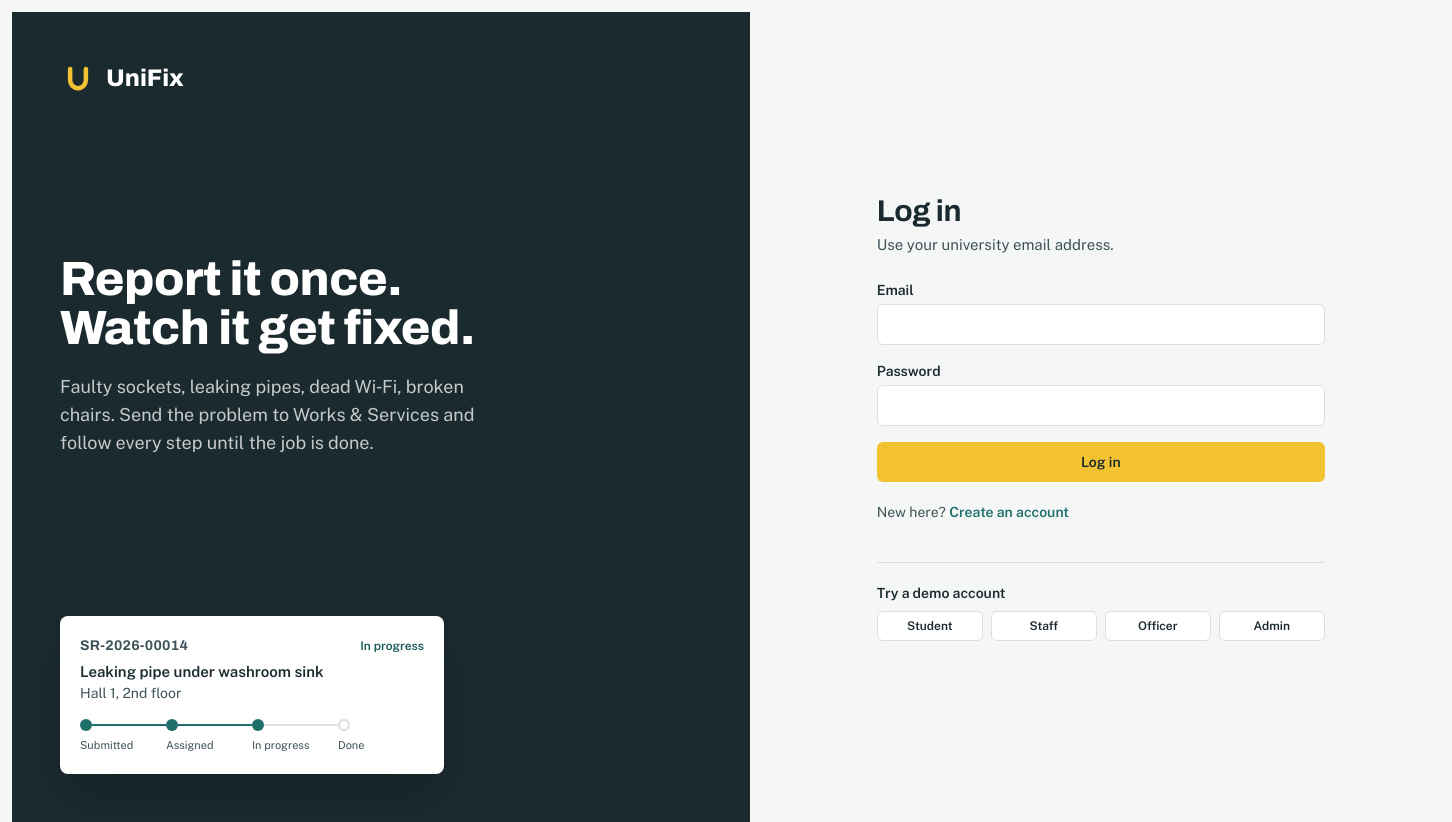
it: LoginPage › stores the token and opens the dashboard on success
Type "student@unifix.edu.ng" into the field labelled "Email" at coordinates (1101, 325), box x1=877 y1=304 x2=1325 y2=345
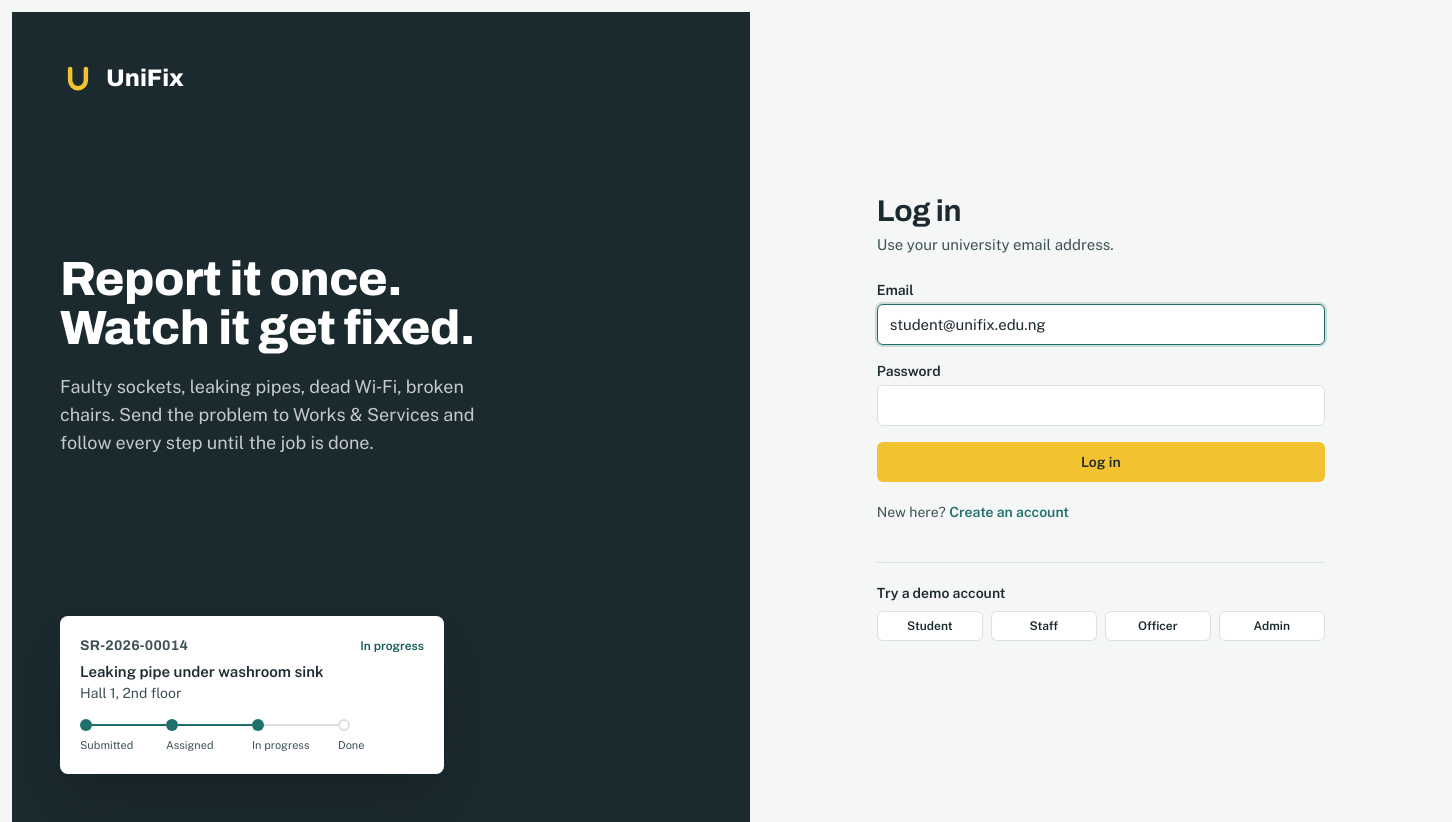
Type "Student1234" into the password field labelled "Password" at coordinates (1101, 406), box x1=877 y1=385 x2=1325 y2=426
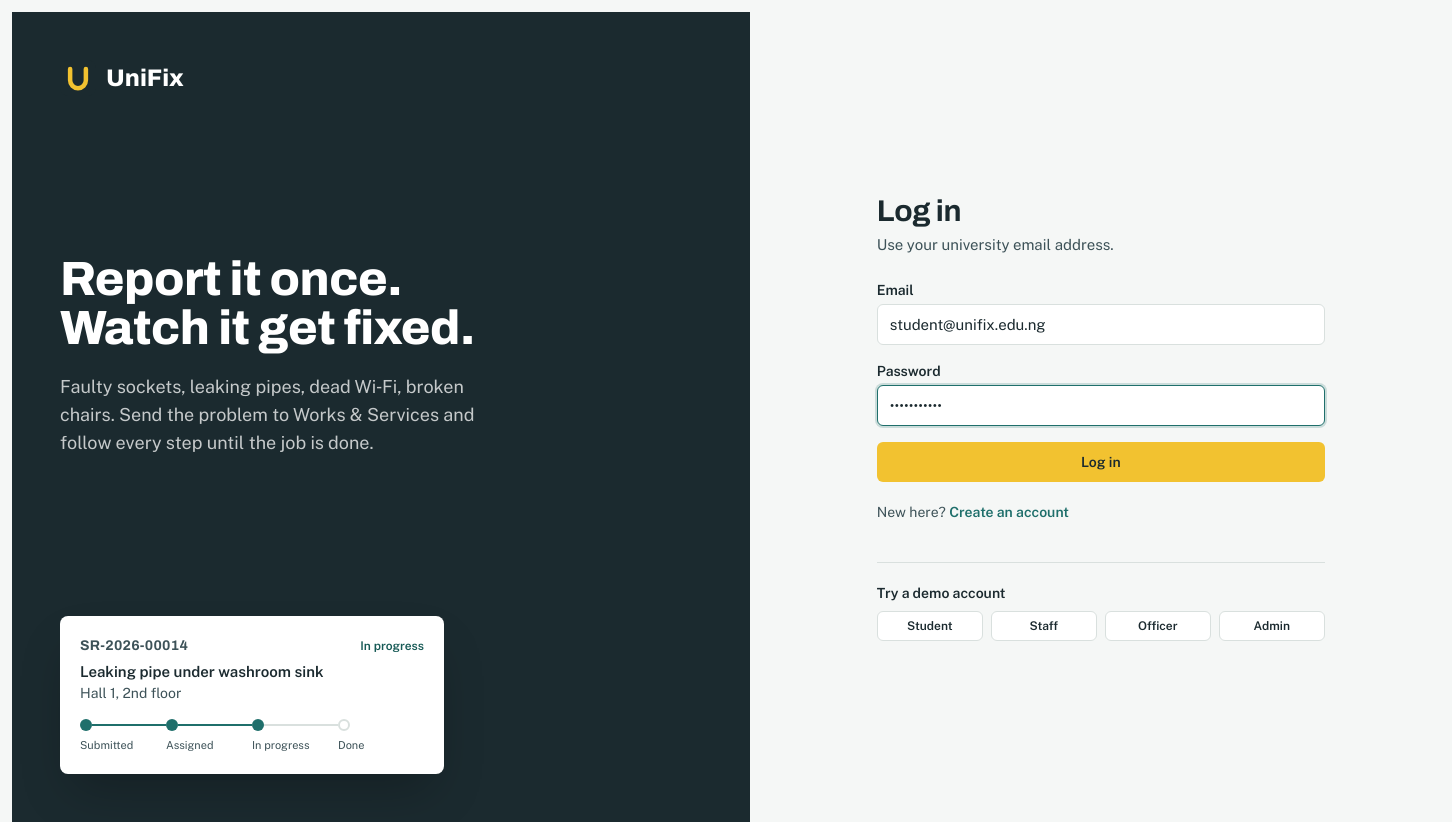
Click the button "Log in" at coordinates (1101, 462), box x1=877 y1=442 x2=1325 y2=482
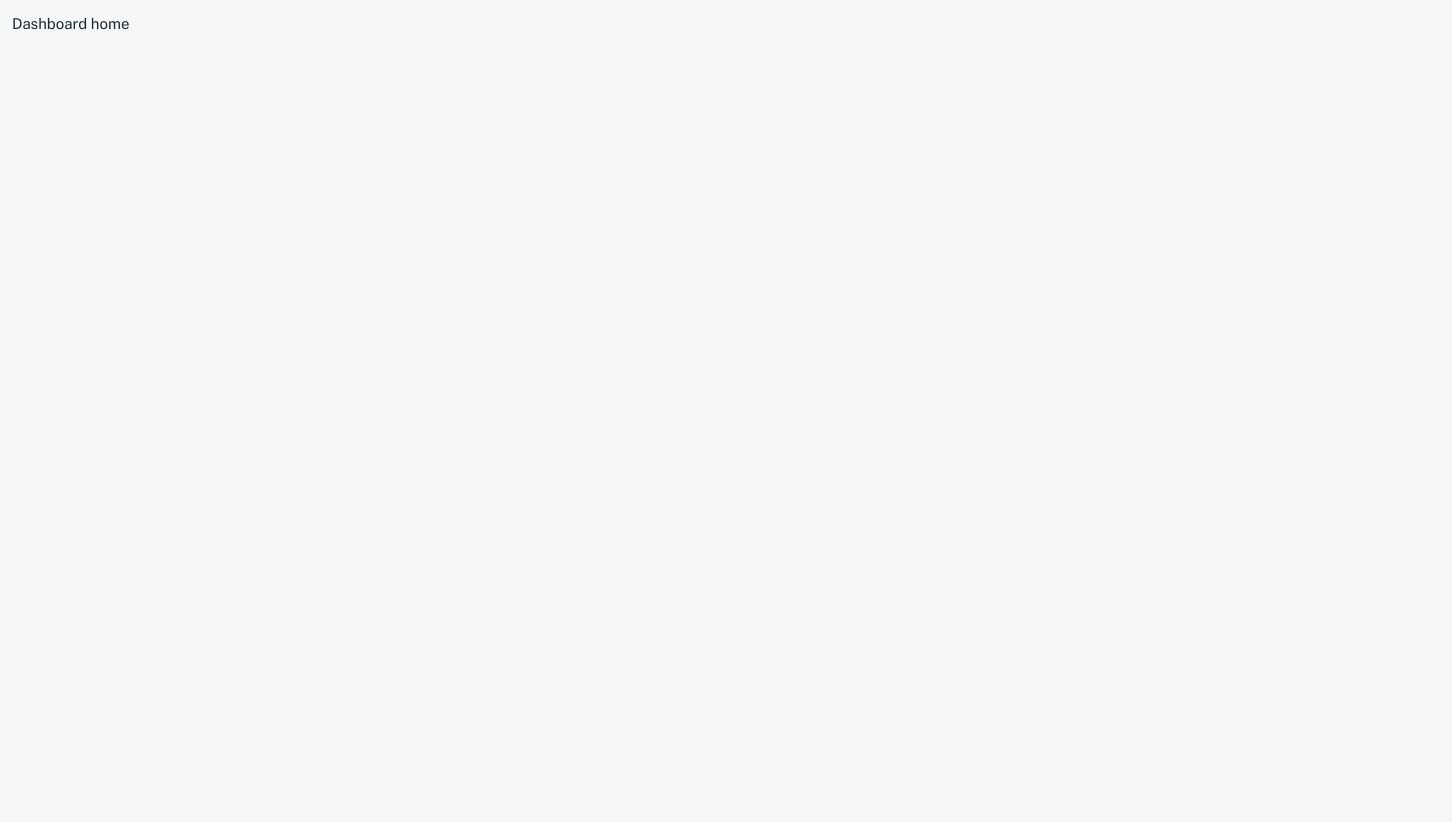
Expected: the text "Dashboard home" is shown, x1=12 y1=15 x2=129 y2=32
